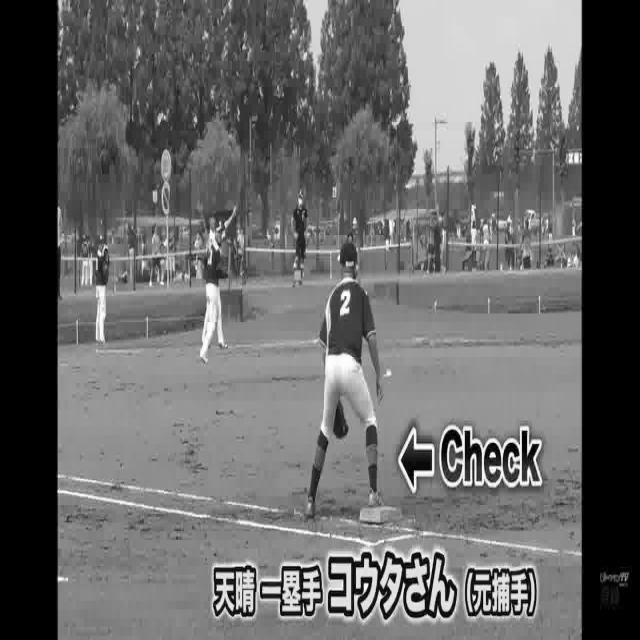base: (358, 499, 405, 524)
baseball_glove: (330, 387, 350, 443)
shoe: (366, 485, 387, 514), (300, 491, 318, 523), (198, 349, 211, 368)
